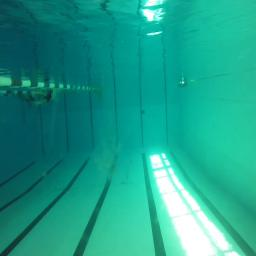Full: (140, 110, 144, 113)
front: (178, 80, 187, 86)
